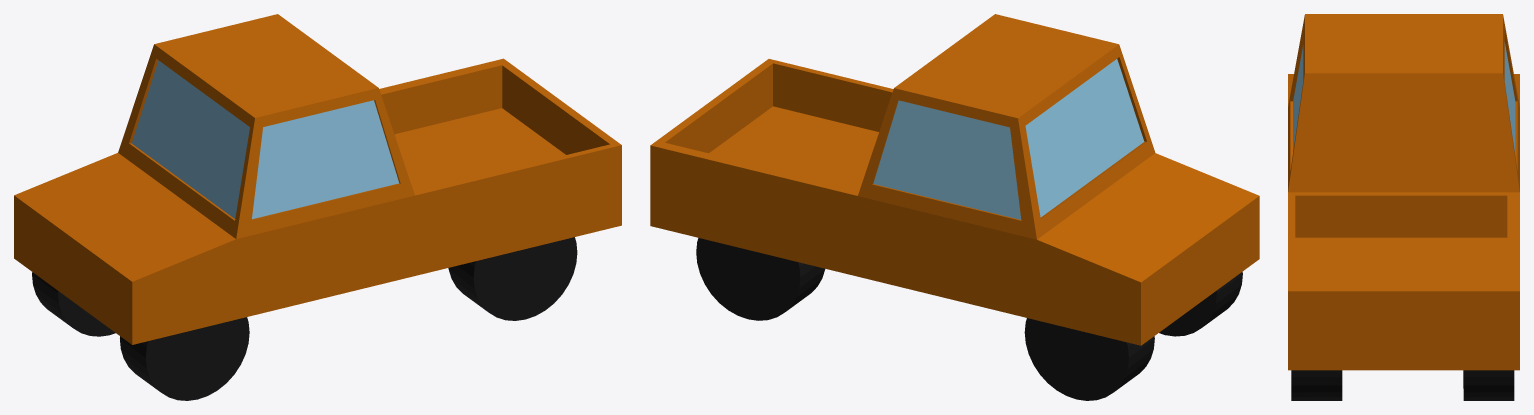
File: truck_t0.gltf
3 views of the same model, side by side, from view 1: azimuth 30°, elevation 25°; view 2: azimuth 150°, elevation 25°; view 3: azimuth 270°, elevation 25° (orthographic). The views are drawn at different scales.
Parts seen in each view (by area): view 1: truck; view 2: truck; view 3: truck.
Part boxes in pixels (x1,y1,x2,y2): truck: (14, 14, 621, 400); truck: (650, 14, 1259, 400); truck: (1288, 14, 1519, 400).
Bounding box in the file's own units: 9.42 × 4.79 × 3.94.
